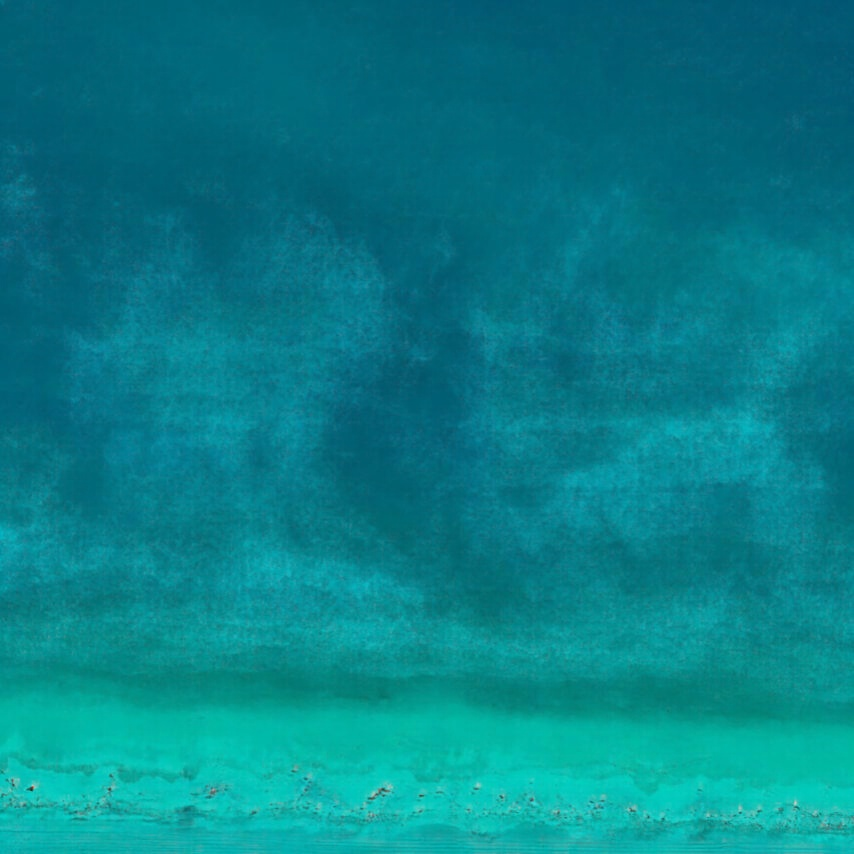rip_current: (231, 166, 590, 610)
